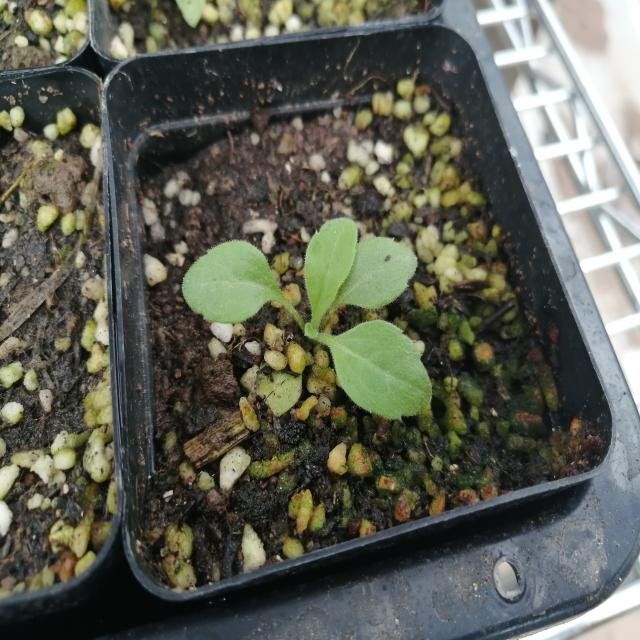horseweed: (190, 210, 438, 428)
